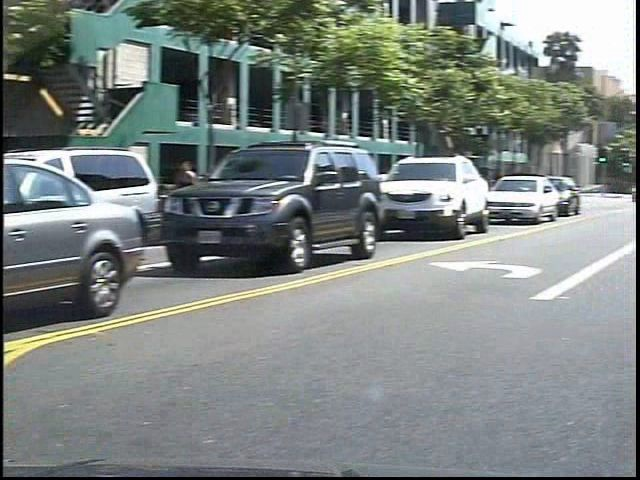person: (186, 154, 215, 233)
